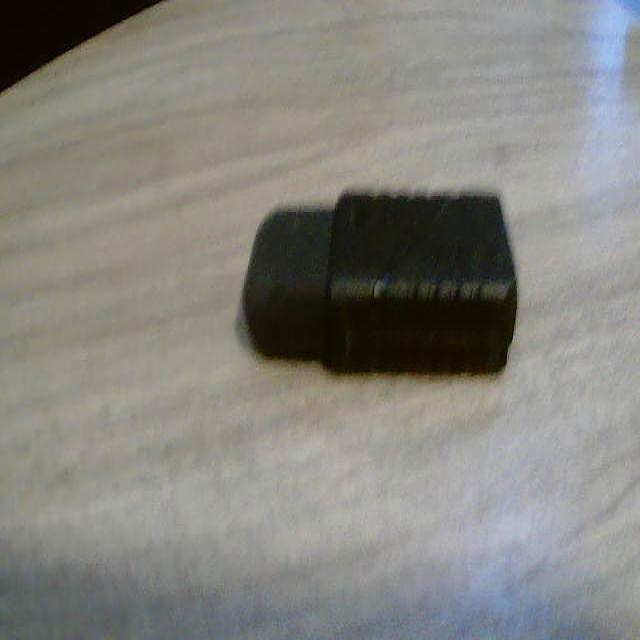borracha: (223, 177, 534, 385)
